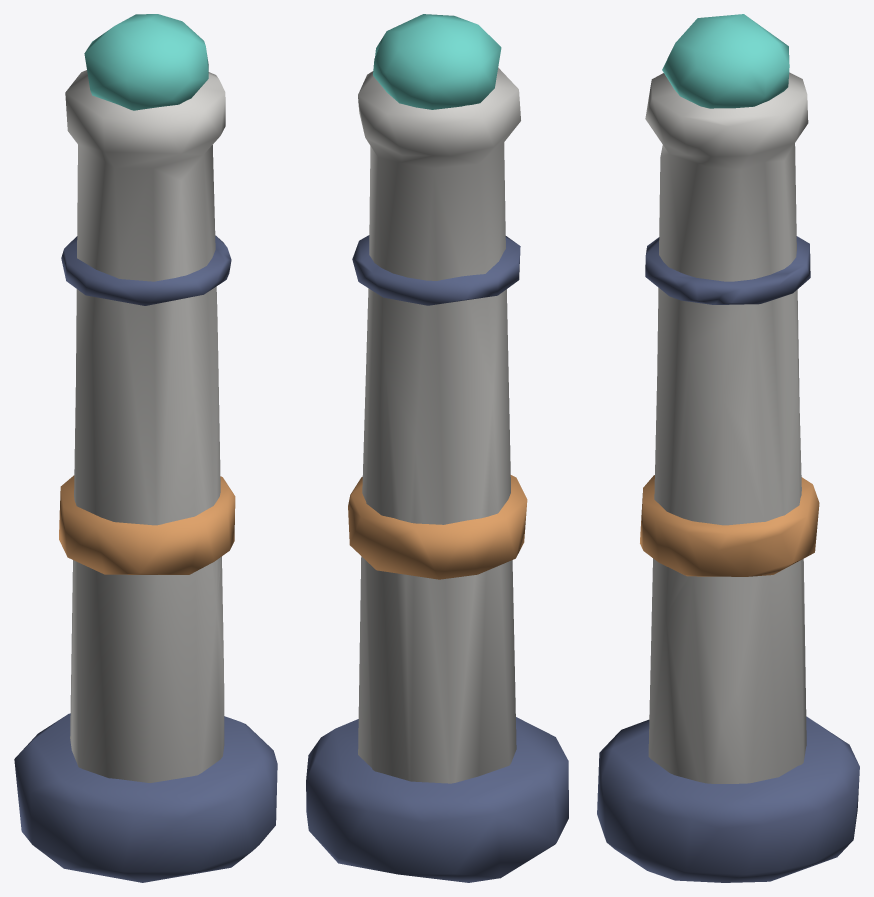
The model's file is borne.glb.
The picture shows the model from 3 angles, left to right: view 1: azimuth 30°, elevation 25°; view 2: azimuth 150°, elevation 25°; view 3: azimuth 270°, elevation 25°; orthographic projection.
Parts seen in each view (by area): view 1: borne, borne_glow; view 2: borne, borne_glow; view 3: borne, borne_glow.
Part boxes in pixels (<box>): borne: <box>14,70,277,882</box>; borne_glow: <box>84,14,208,110</box>; borne: <box>306,68,568,882</box>; borne_glow: <box>373,14,501,109</box>; borne: <box>597,72,859,882</box>; borne_glow: <box>662,14,789,108</box>.
Bounding box in the file's own units: 0.2828 × 0.9766 × 0.278.
